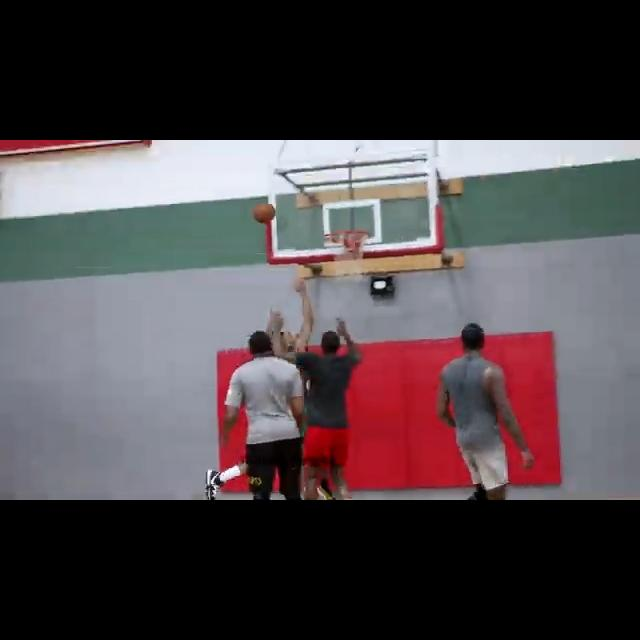basketball: (253, 202, 277, 223)
hoop: (326, 229, 372, 284)
person: (199, 279, 335, 499), (435, 322, 534, 500), (220, 332, 307, 500), (301, 316, 363, 499)
